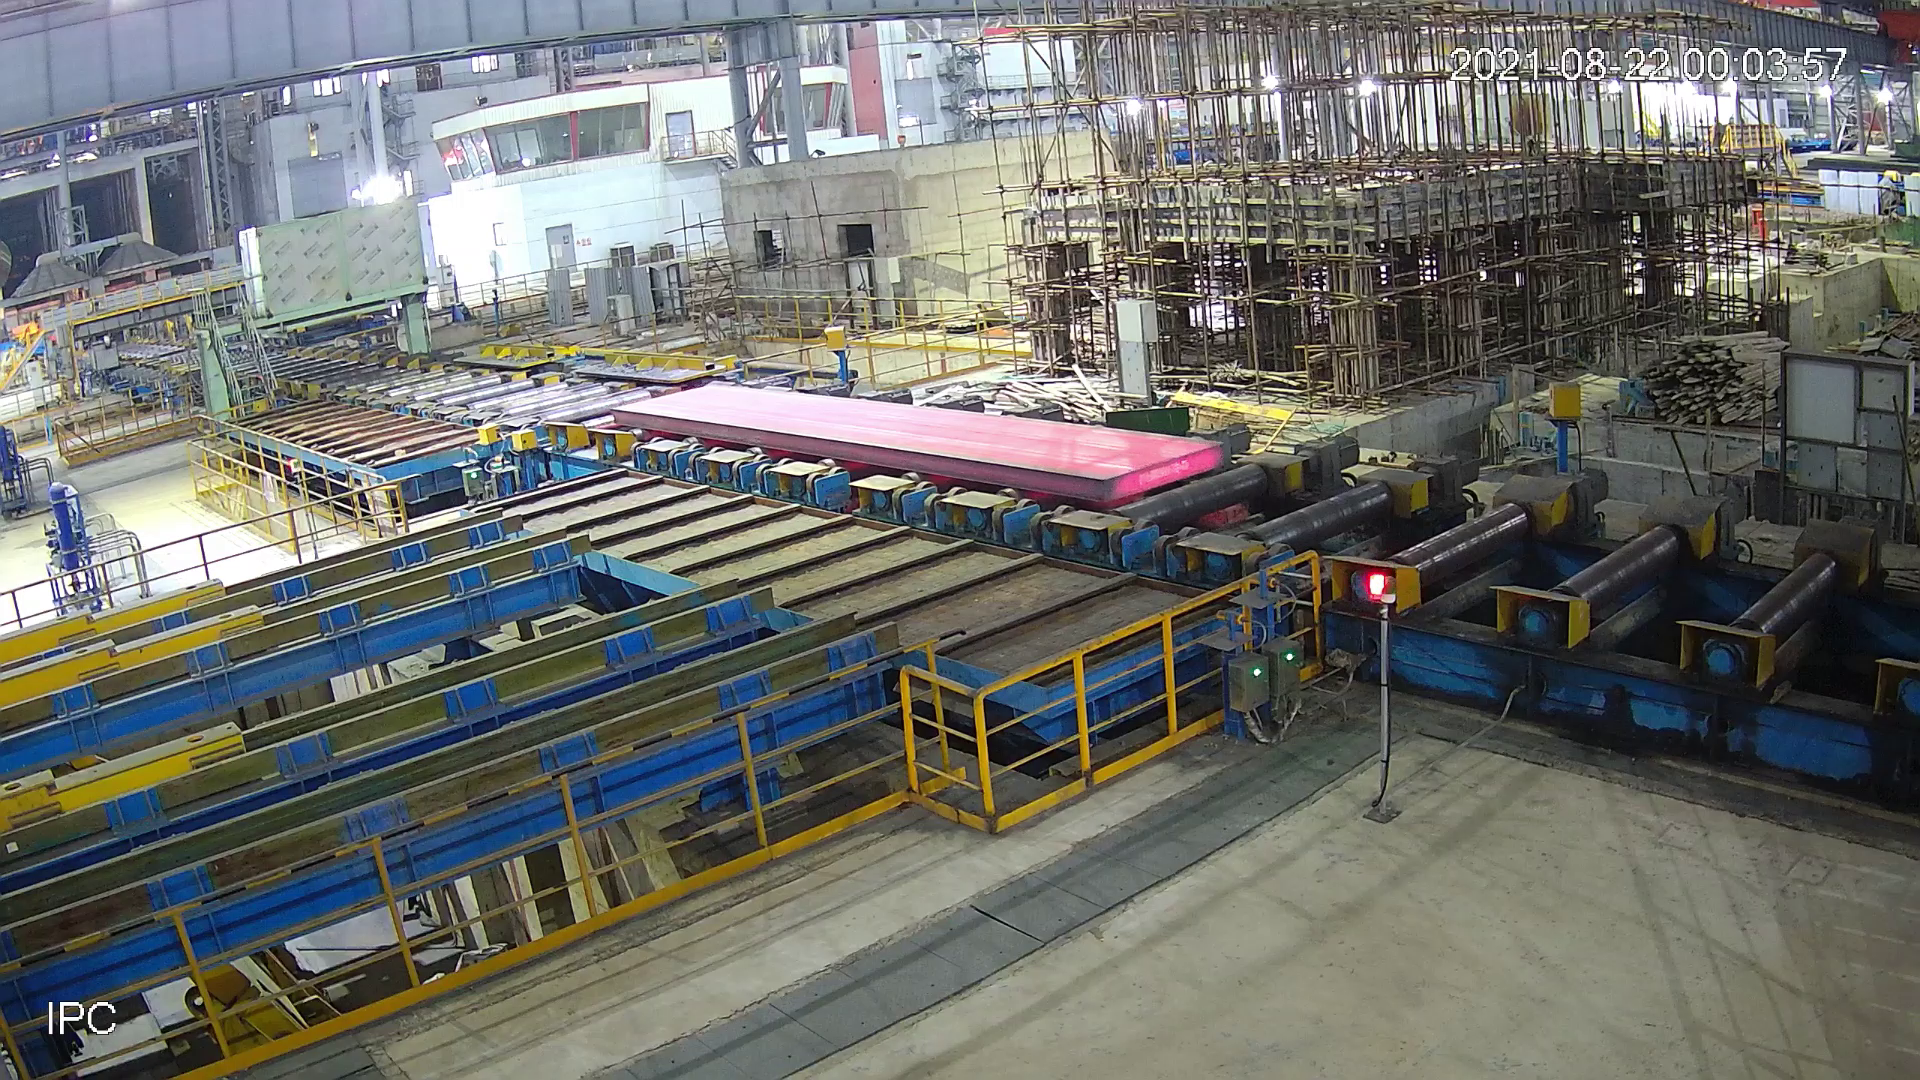slab: (607, 378, 1221, 509)
